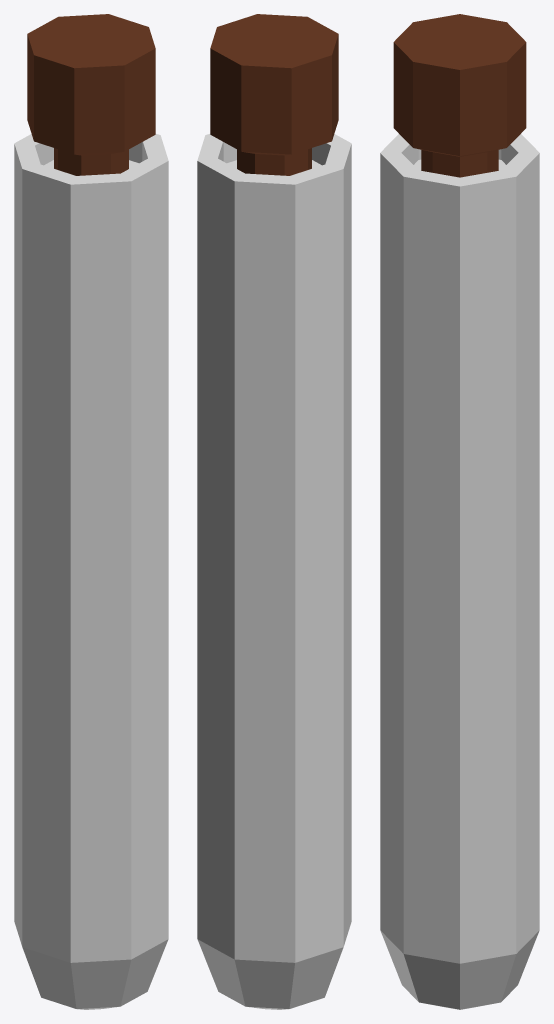
Rendered from Potion4.glb.
The picture shows the model from 3 angles, left to right: view 1: azimuth 30°, elevation 25°; view 2: azimuth 150°, elevation 25°; view 3: azimuth 270°, elevation 25°; orthographic projection.
Visible parts, largest first — view 1: Potion4; view 2: Potion4; view 3: Potion4.
Boxes of the visible parts, x1,y1,x2,y2 form: Potion4: (14, 14, 168, 1009); Potion4: (197, 14, 351, 1009); Potion4: (380, 14, 539, 1009).
Bounding box in the file's own units: 0.1439 × 0.9538 × 0.1439.
